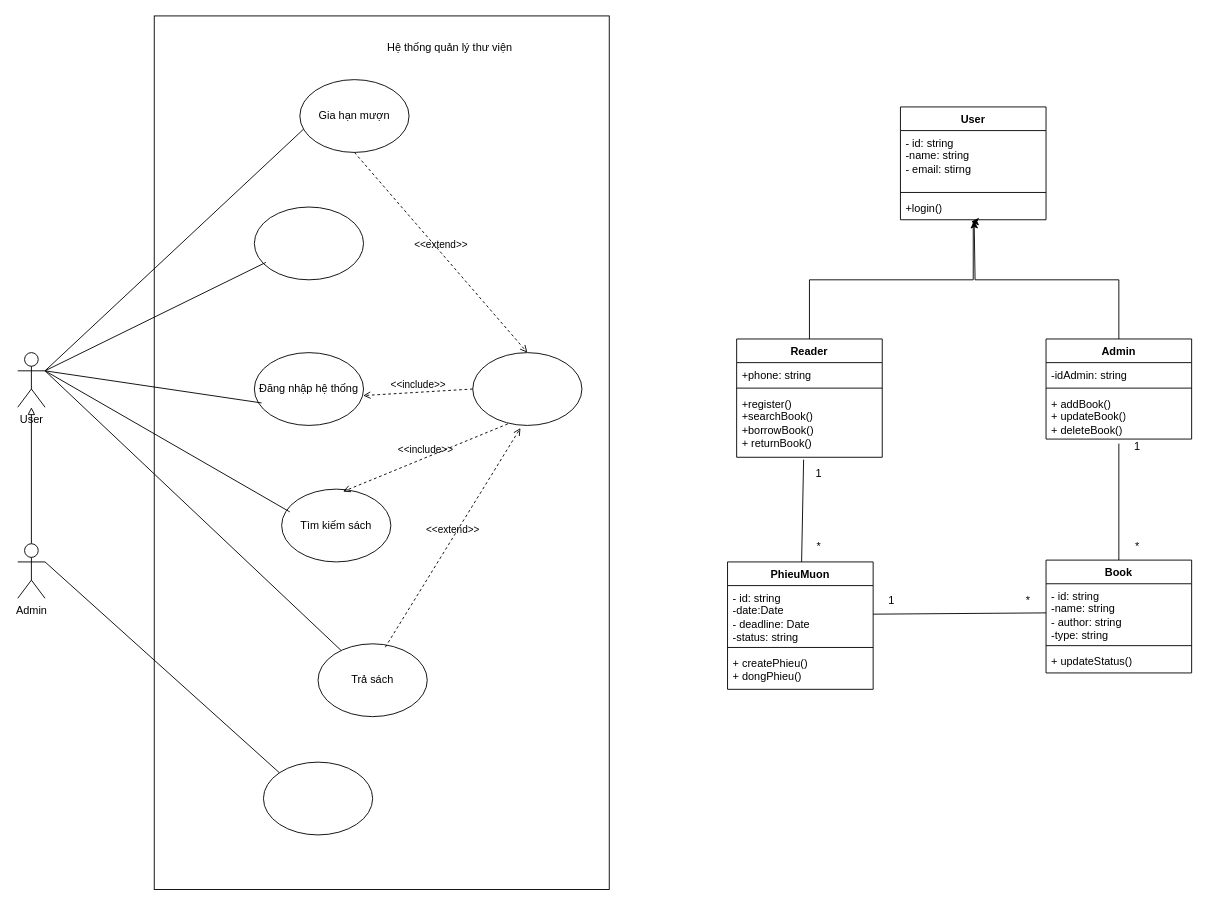
This 1208x905 diagram has some shape labels left out. Each missing label, with the centre of its shape:
"Mượn sách" belongs at (527,388).
"Quản lý sách" belongs at (318,798).
"Đăng kí người dùng" belongs at (308,243).
